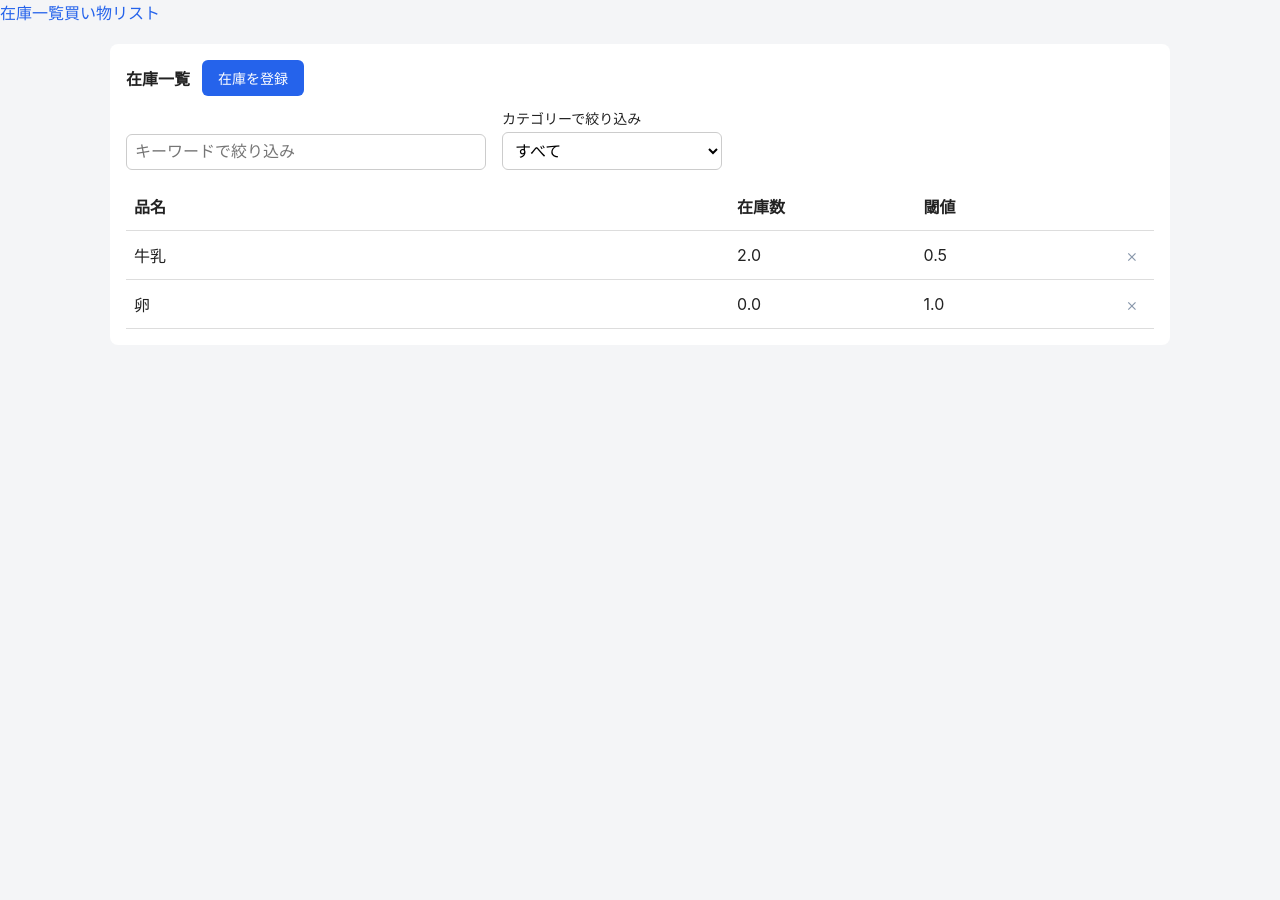
Test: ZaikoPage › /zaikoでは在庫一覧だけを表示し、買い物リストタブに切り替えると買い物リストだけを表示する
This screenshot has width=1280, height=900.
Expected: the text "牛乳" is shown, top-left (134, 246), bottom-right (166, 266)
Expected: the text "乳製品" is not shown
Click the button with aria-label "牛乳の詳細" at [150, 256], box top-left (126, 231), bottom-right (1110, 280)
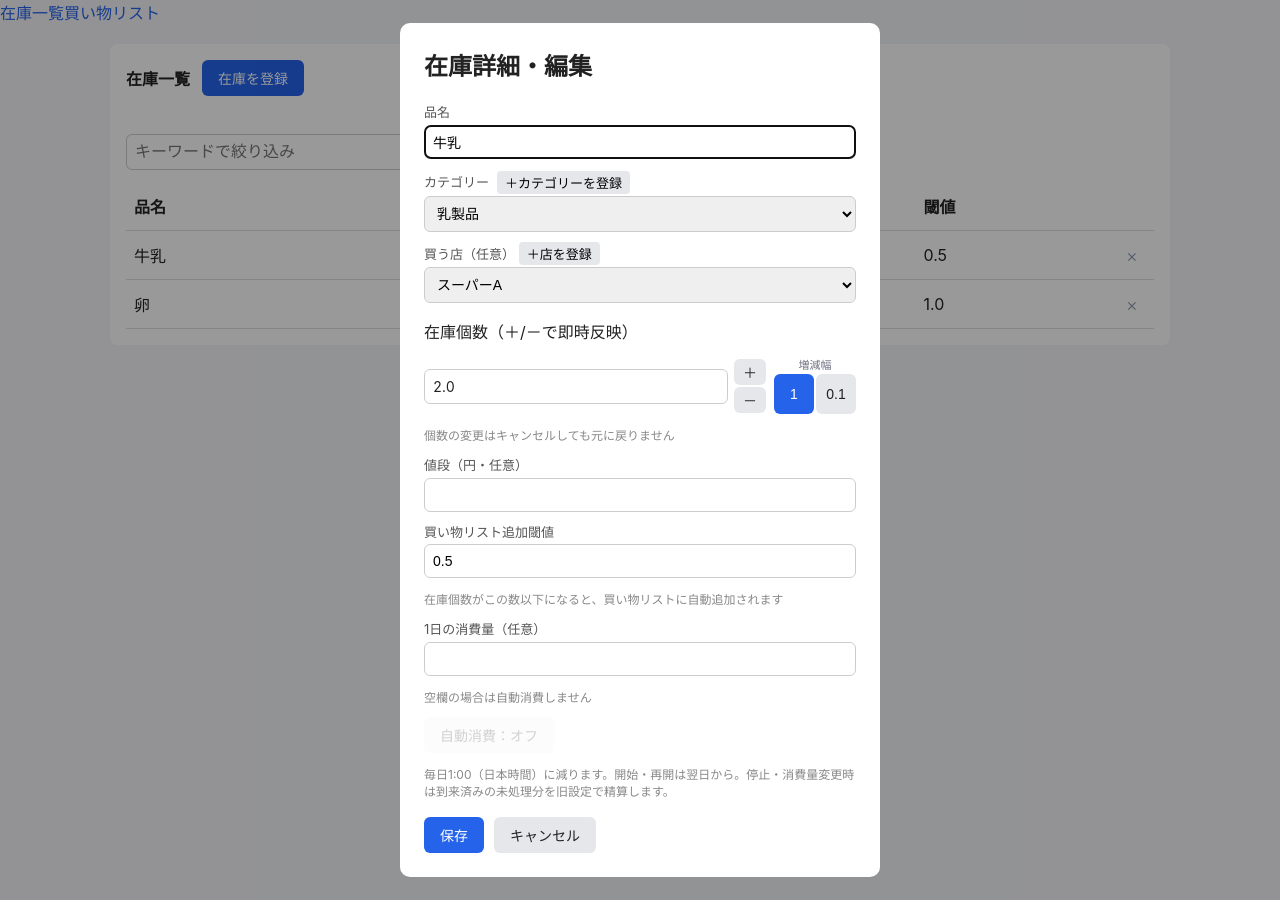
Click the button "キャンセル" at [545, 835], box top-left (494, 817), bottom-right (596, 853)
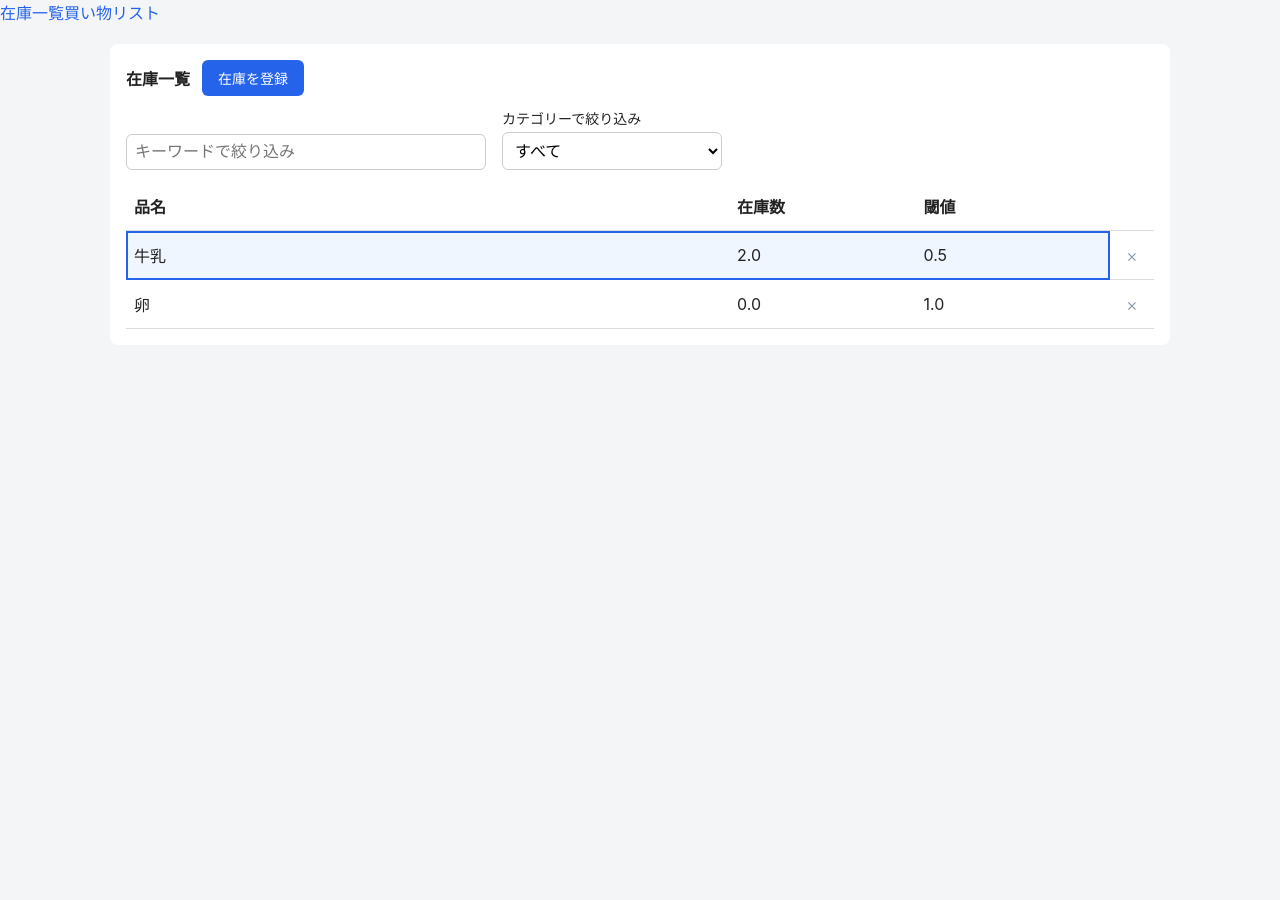
Click the link "買い物リスト" at [112, 13], box top-left (64, 3), bottom-right (160, 23)
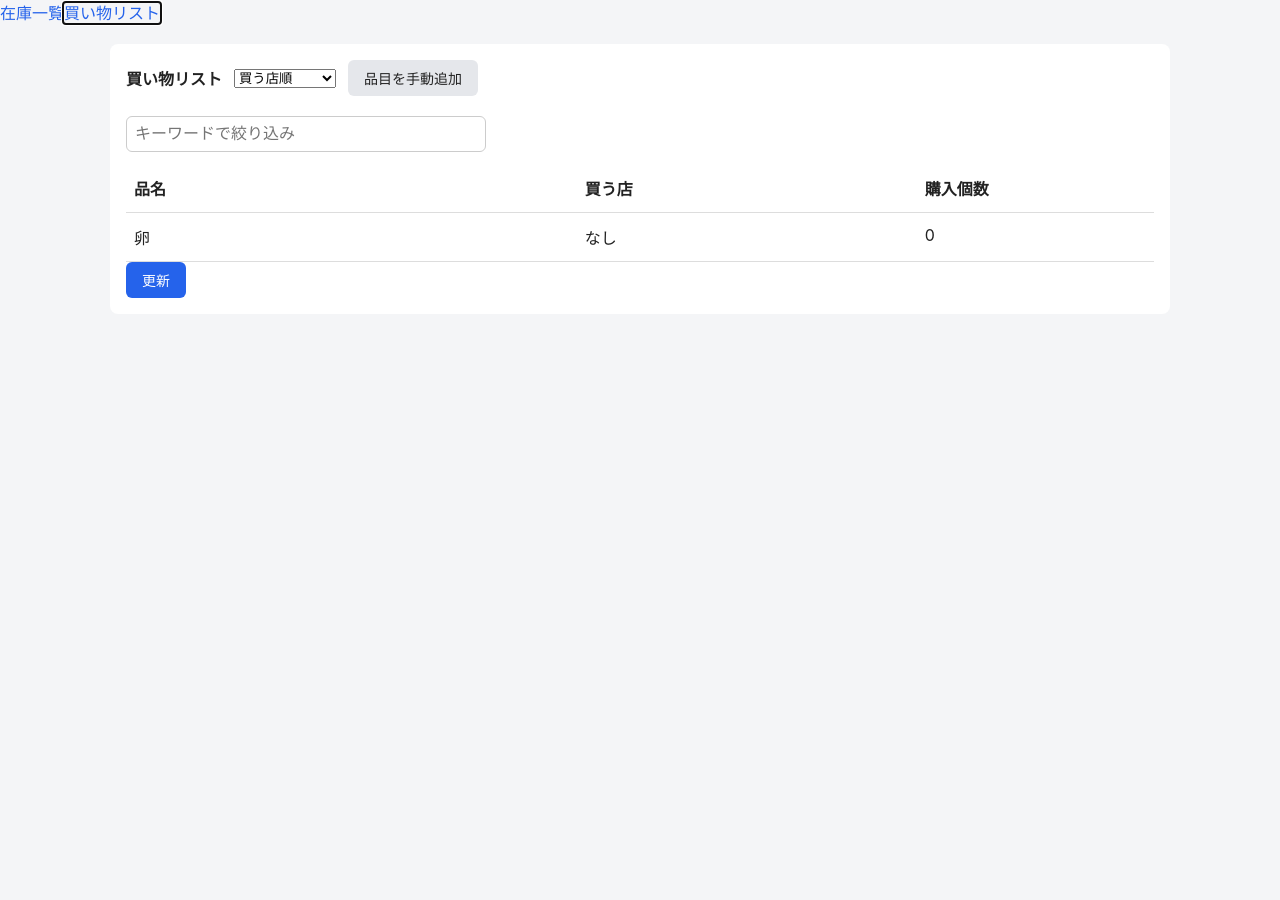
Expected: the text "卵" is shown, top-left (134, 228), bottom-right (150, 248)
Result: the element with test id "inventory-panel" is gone
